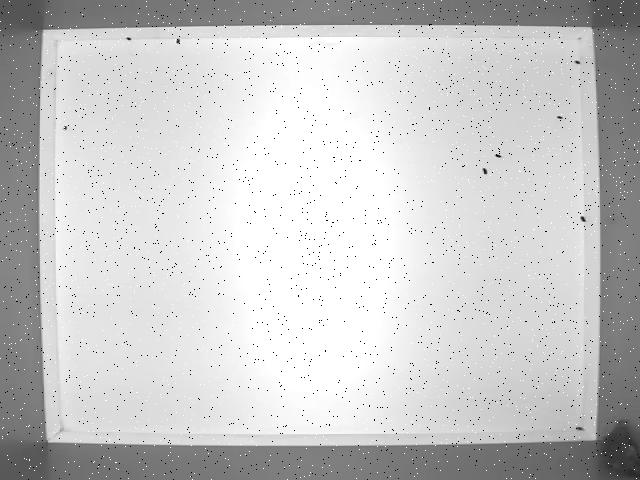Tikus: (596, 420, 640, 480)
